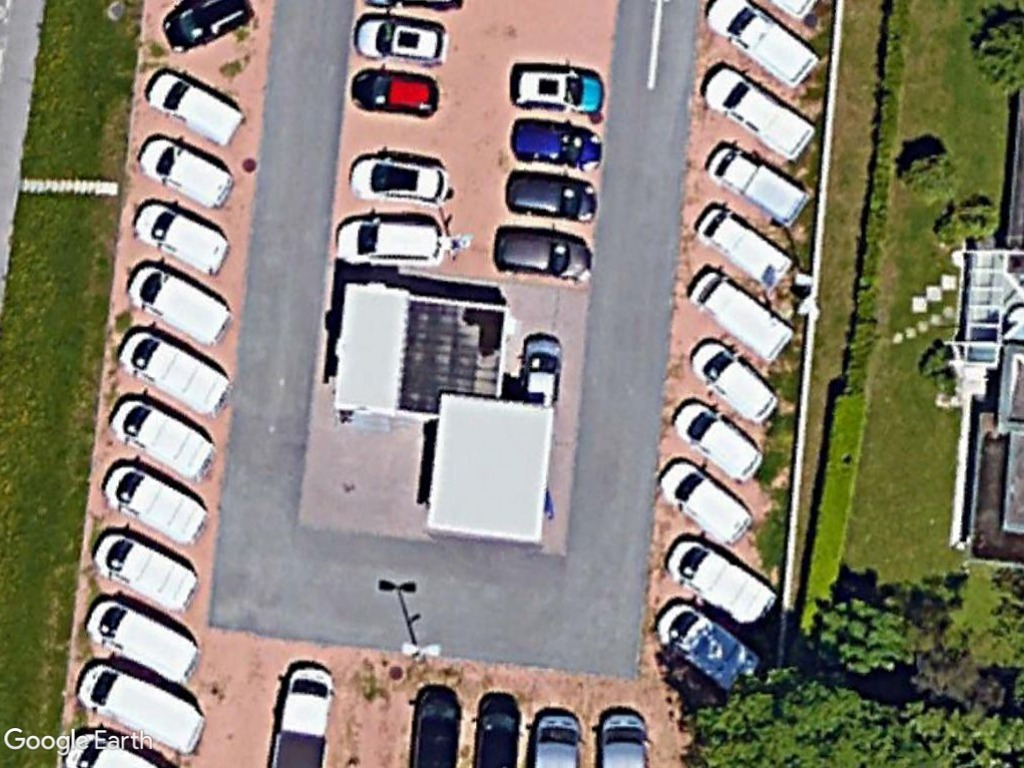car: (653, 450, 751, 548), (667, 397, 768, 485), (687, 336, 779, 422), (336, 210, 451, 268), (495, 223, 596, 284), (505, 117, 607, 173), (348, 154, 456, 206), (505, 63, 608, 115), (351, 12, 450, 65), (499, 175, 601, 225), (351, 69, 444, 120)
others: (267, 664, 340, 768)
van: (74, 662, 205, 756), (79, 594, 206, 689), (663, 532, 778, 630), (704, 64, 820, 156), (703, 1, 821, 91), (91, 527, 208, 616), (684, 268, 797, 360), (125, 259, 236, 352), (116, 328, 232, 415), (690, 203, 798, 294), (655, 600, 760, 693), (98, 458, 206, 547), (106, 395, 218, 479), (130, 132, 241, 214), (701, 142, 809, 226), (144, 70, 245, 150), (132, 194, 235, 272)
